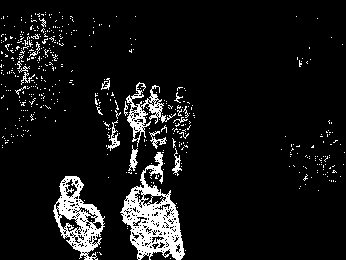person: (120, 167, 186, 260), (54, 176, 107, 260), (170, 88, 196, 178), (144, 85, 171, 168), (124, 82, 147, 175), (95, 77, 123, 151)
